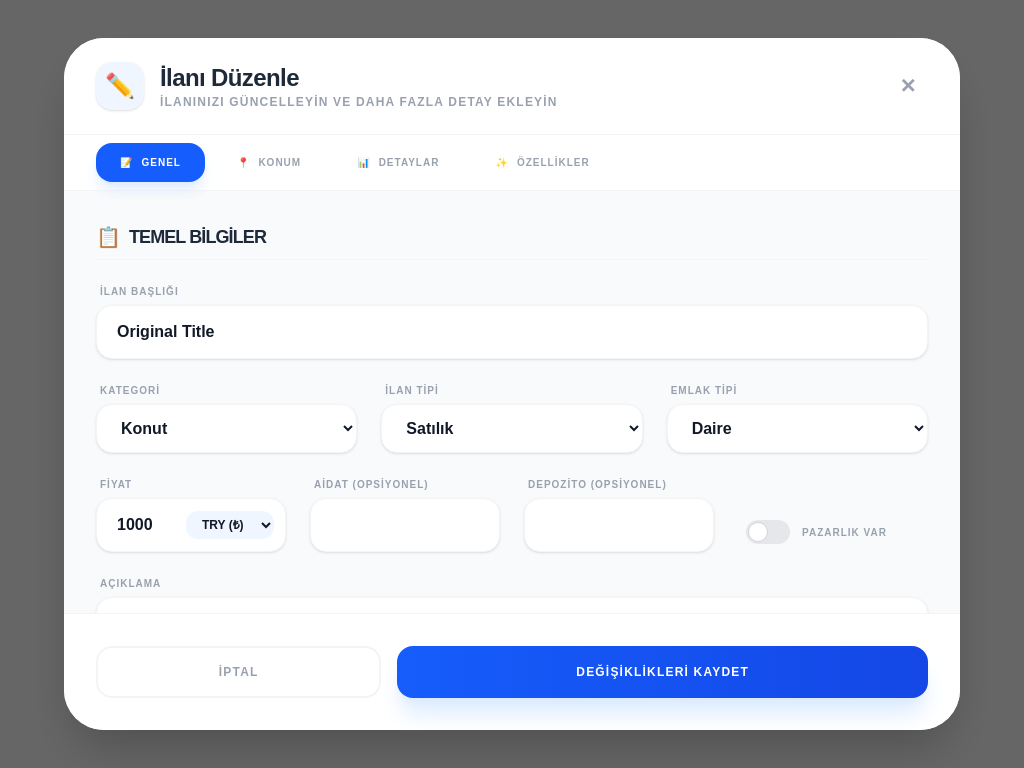
Test: UpdateListingModal Component › should toggle features when clicked
Expected: the heading "İlanı Düzenle" is shown, left=160, top=64, right=299, bottom=91
What coordinates should you click on to do the following:
click the button "✨ ÖZELLİKLER"
I would click on:
 (543, 163)
Its box is left=471, top=143, right=614, bottom=182.
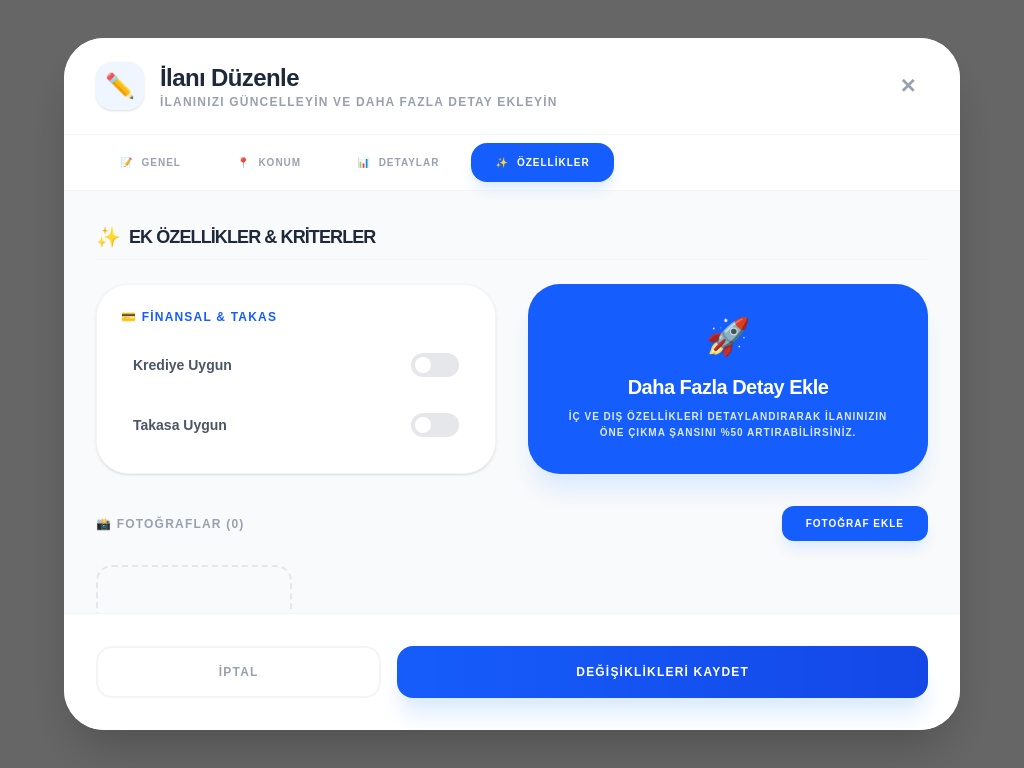
Result: the text "Krediye Uygun" is shown at left=133, top=355, right=232, bottom=375
